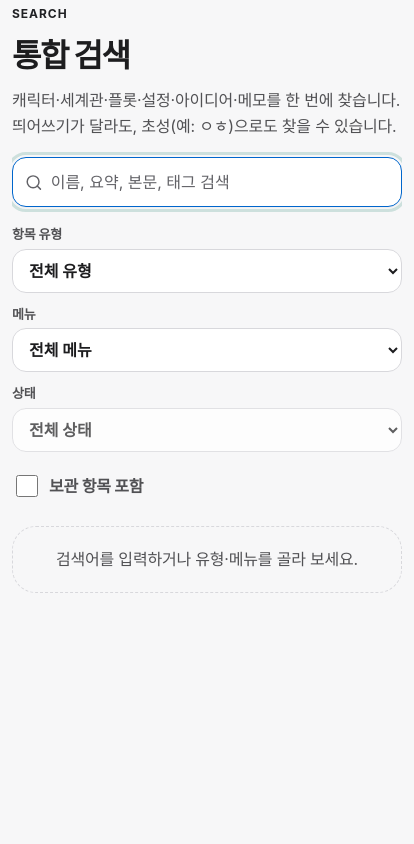
Test: Task 13 search page › finds a character by initial consonants and links to its detail
The width and height of the screenshot is (414, 844).
Expected: the text "검색어를 입력하거나 유형·메뉴를 골라 보세요." is shown, [12,526,402,593]
In the search field named "통합 검색어": (220,182) [51,158,389,206], type "ㅇㅎ"
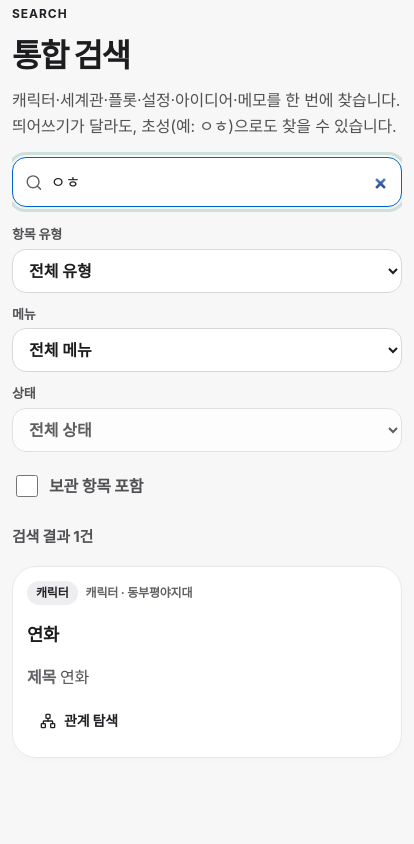
Expected: the text "검색 결과 1건" is shown, [12,527,93,546]
